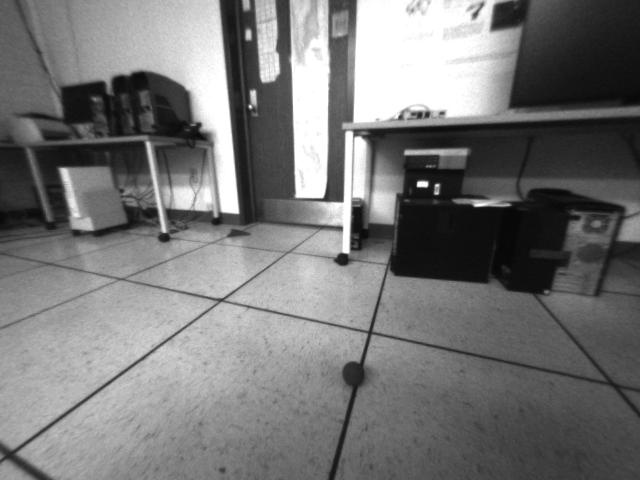dogtoy: (336, 357, 373, 392)
